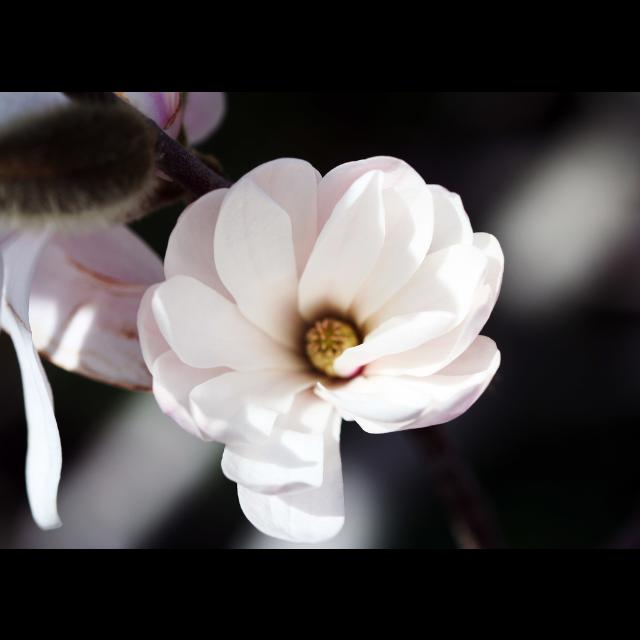Flower: (126, 162, 486, 520), (0, 91, 222, 532)
